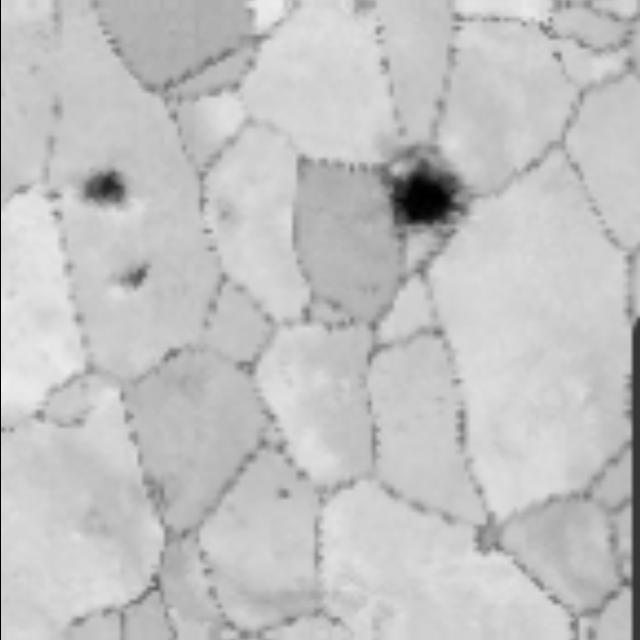good_void: (351, 136, 497, 270), (127, 471, 184, 526), (77, 168, 130, 221), (465, 510, 512, 567), (112, 259, 149, 290), (267, 481, 301, 510)
